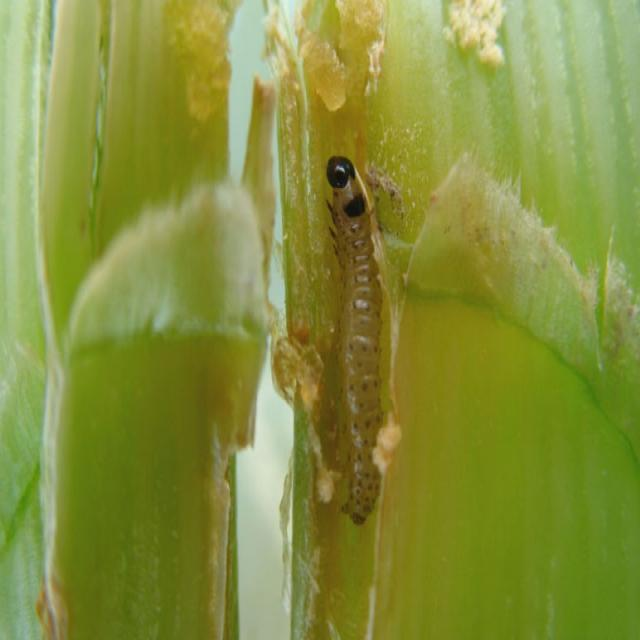cornborer-Larva-: (318, 138, 387, 532)
